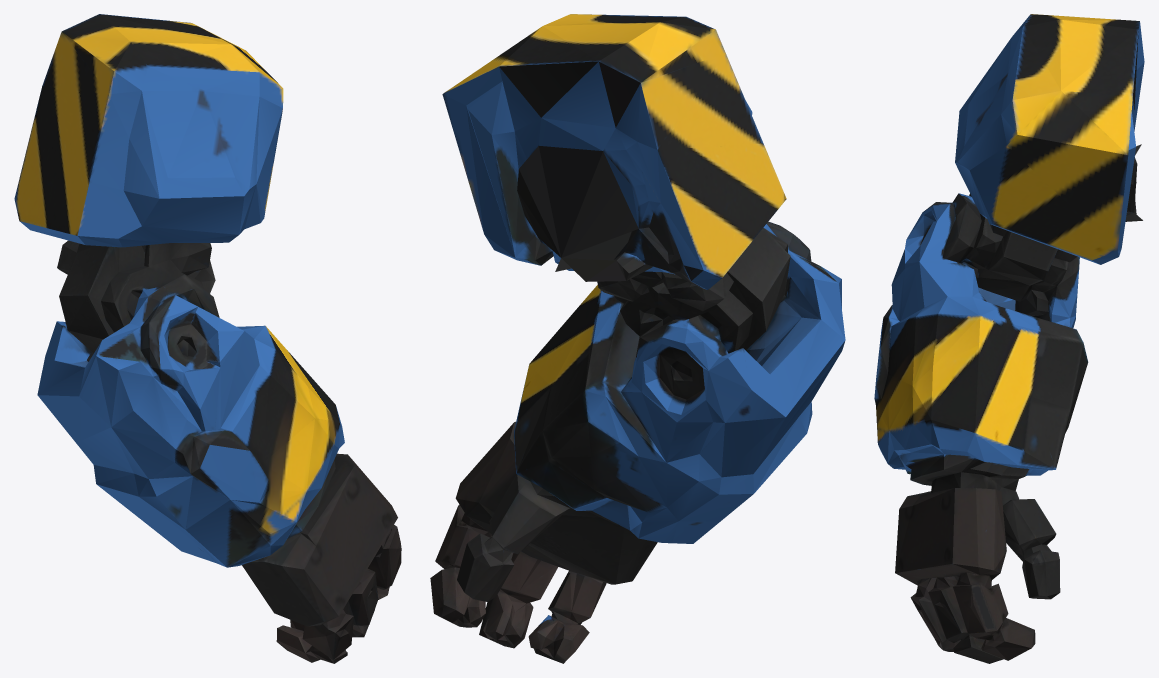
File: SM_HeavyDebris_Arm_R.fbx
3 renders of one model, left to right at view 1: azimuth 30°, elevation 25°; view 2: azimuth 150°, elevation 25°; view 3: azimuth 270°, elevation 25°, orthographic. The views are drawn at different scales.
Visible parts, largest first — view 1: SM_HeavyDebris_Arm_R; view 2: SM_HeavyDebris_Arm_R; view 3: SM_HeavyDebris_Arm_R.
Part boxes in pixels (x1,y1,x2,y2): SM_HeavyDebris_Arm_R: [14, 14, 401, 663]; SM_HeavyDebris_Arm_R: [430, 14, 845, 663]; SM_HeavyDebris_Arm_R: [874, 14, 1144, 663].
Bounding box in the file's own units: 109 × 189 × 81.53.
1 material, 1 textured.
